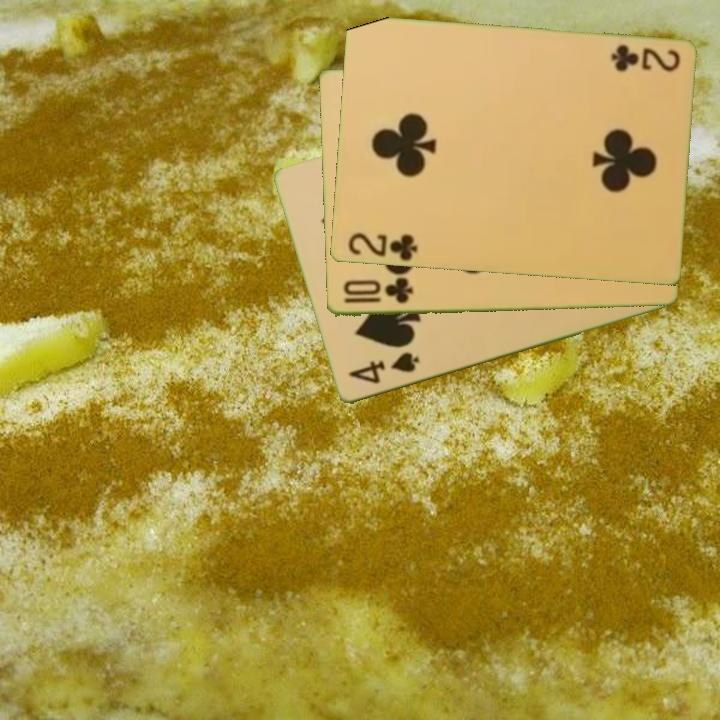10c: (339, 276, 416, 307)
2c: (344, 230, 420, 264), (607, 41, 682, 75)
4s: (344, 349, 422, 388)
